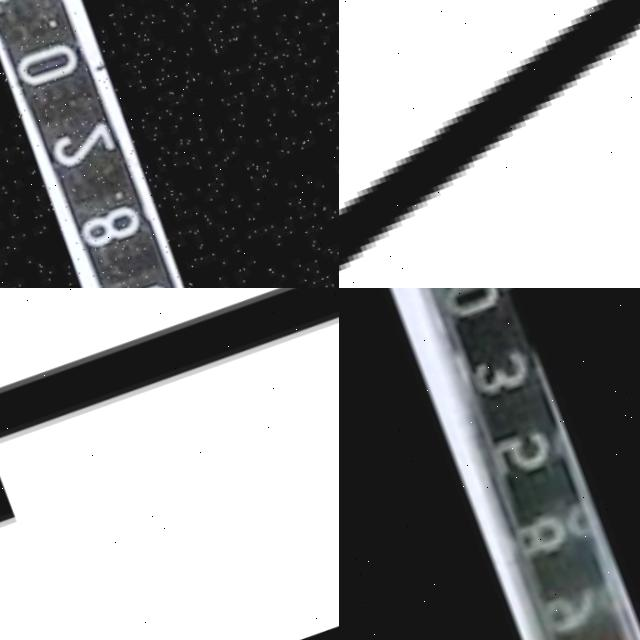0: (6, 32, 82, 92), (434, 288, 503, 324)
2: (41, 110, 115, 170)
3: (464, 342, 534, 401)
5: (482, 421, 553, 482)
8: (71, 192, 146, 253), (504, 503, 573, 561), (102, 269, 178, 288)
9: (529, 576, 603, 640)
J: (339, 0, 640, 288)
T: (0, 288, 339, 555)
